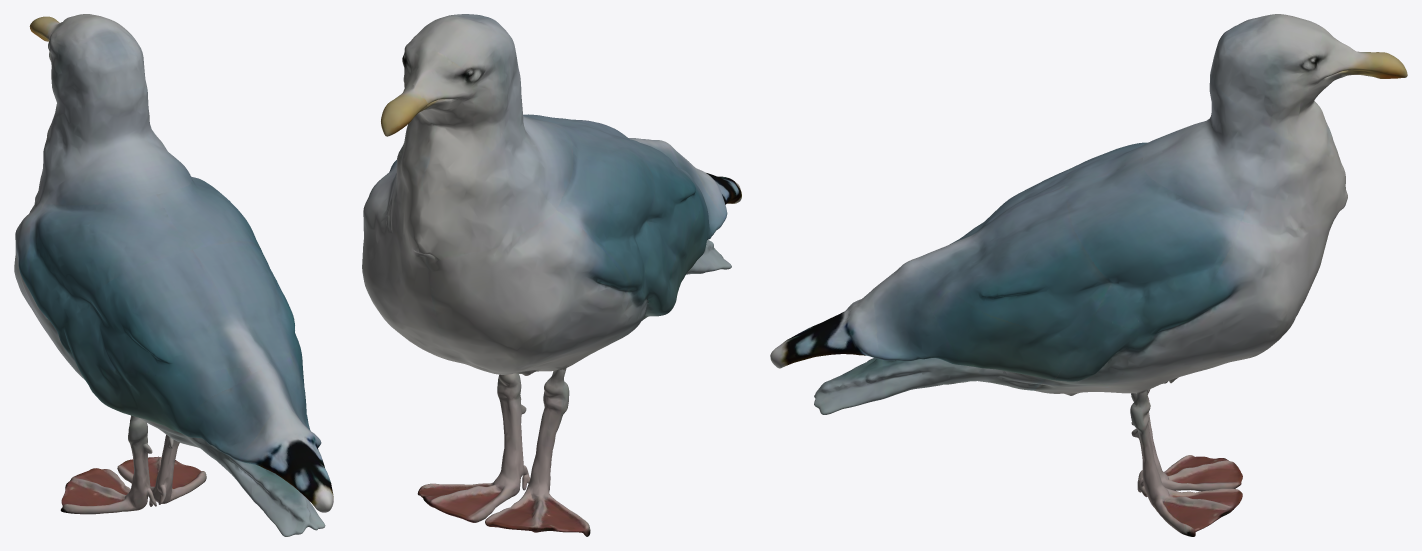
Rendered from uk-herring-gull.glb.
3 views of the same model, side by side, from view 1: azimuth 30°, elevation 25°; view 2: azimuth 150°, elevation 25°; view 3: azimuth 270°, elevation 25° (orthographic). The views are drawn at different scales.
Visible parts, largest first — view 1: tripo_node_d54de85b-e9bd-4656-9d95-56314973c857; view 2: tripo_node_d54de85b-e9bd-4656-9d95-56314973c857; view 3: tripo_node_d54de85b-e9bd-4656-9d95-56314973c857.
Part boxes in pixels (<box>): tripo_node_d54de85b-e9bd-4656-9d95-56314973c857: <box>14,14,333,536</box>; tripo_node_d54de85b-e9bd-4656-9d95-56314973c857: <box>362,14,741,536</box>; tripo_node_d54de85b-e9bd-4656-9d95-56314973c857: <box>770,14,1407,536</box>.
Bounding box in the file's own units: 0.395 × 0.835 × 0.9996.
Materials: 1 (1 with a texture image).
